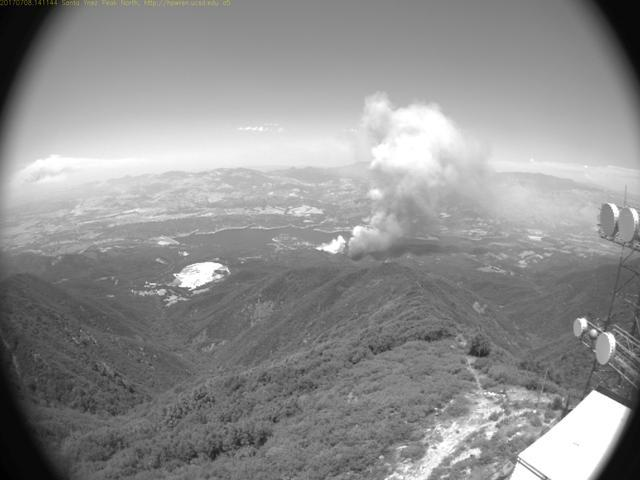smoke: (310, 85, 518, 259)
